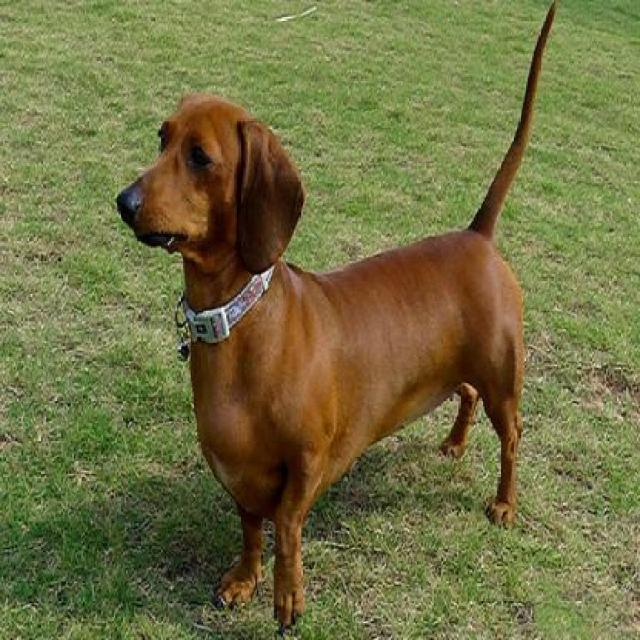Dog: (112, 0, 561, 638)
